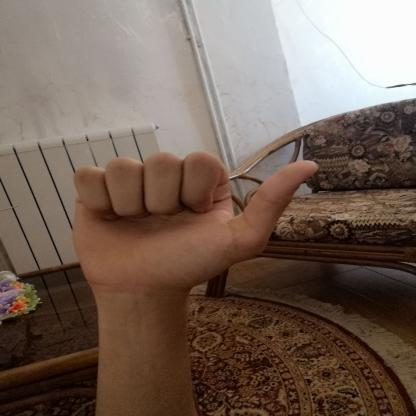DAD: (55, 142, 333, 306)
